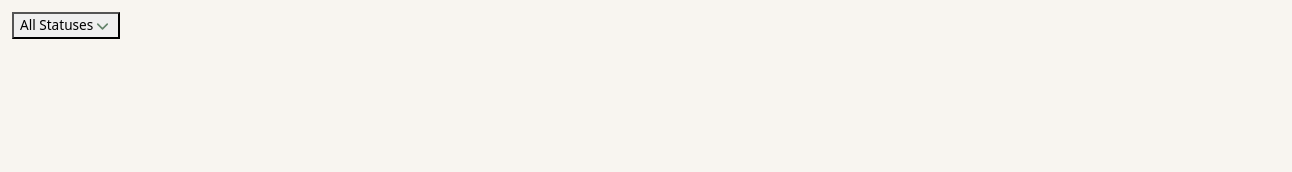
StaffSelect Component Tests › should open options listbox on click and allow choosing an option
Click the button at (66, 25), box [12,12,120,39]
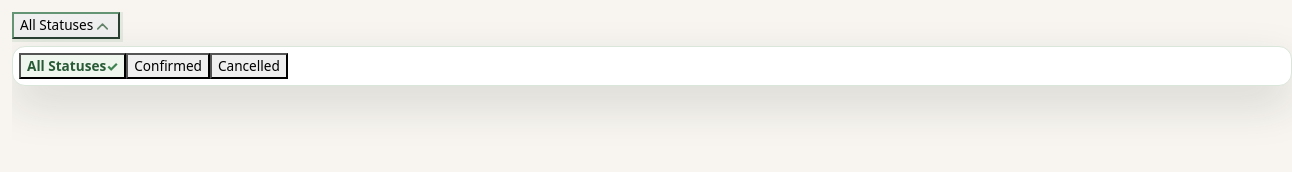
Expected: the list is shown, [12,46,1291,86]
Note: Click on 'Cancelled' option
Click the option "Cancelled" at (249, 66), box [210,53,288,79]
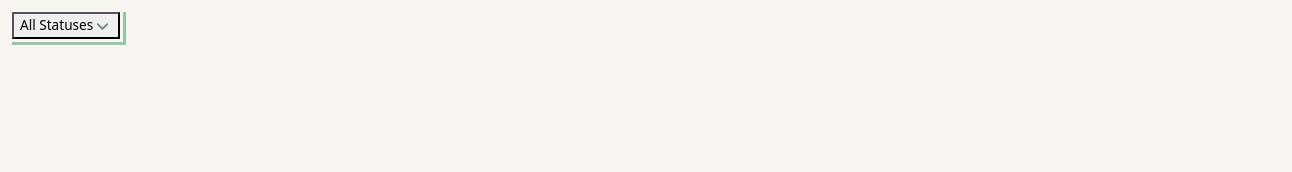
Expected: the list is gone
